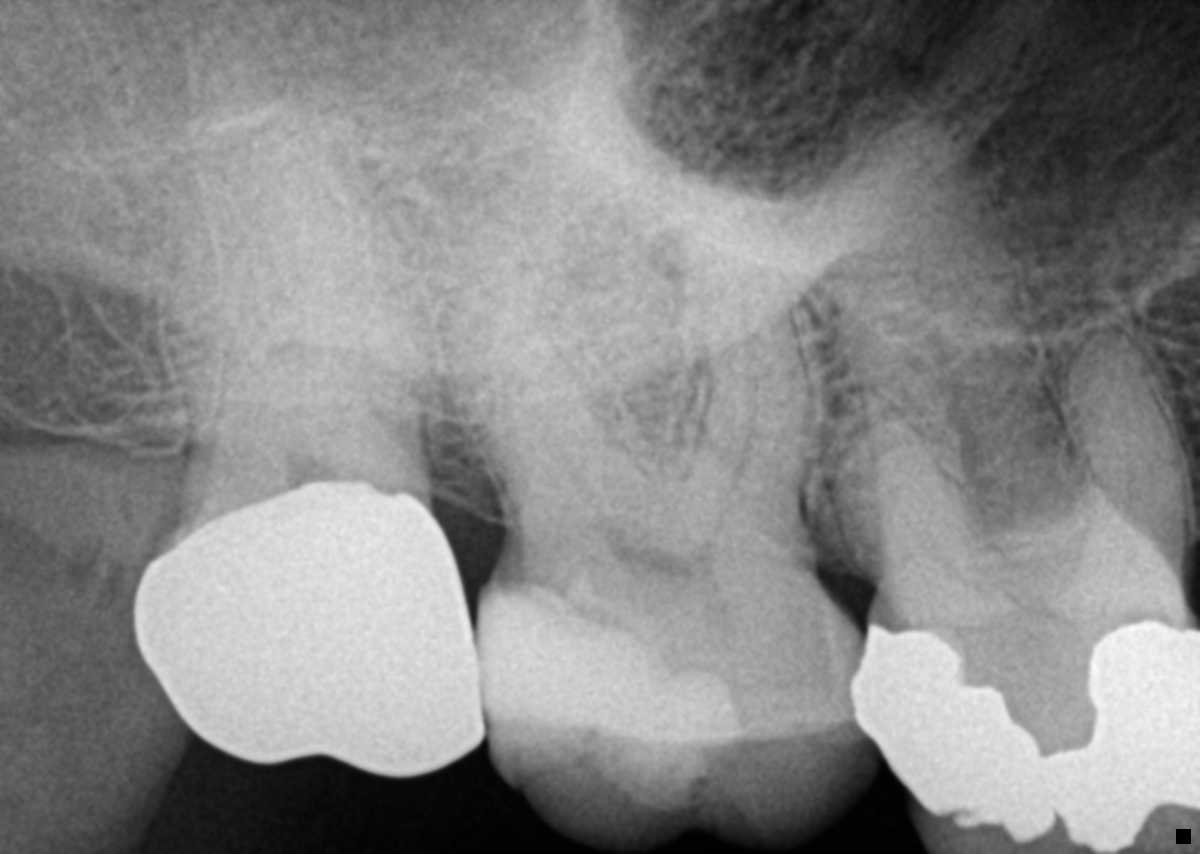Distal Canal: (730, 267, 754, 494)
Distal Root: (436, 205, 638, 518), (162, 161, 304, 414), (821, 384, 985, 579)
Mesial Root: (682, 154, 812, 502), (291, 161, 425, 429), (1063, 327, 1185, 567)
Palatal Root: (833, 112, 1088, 536), (189, 22, 405, 422)
